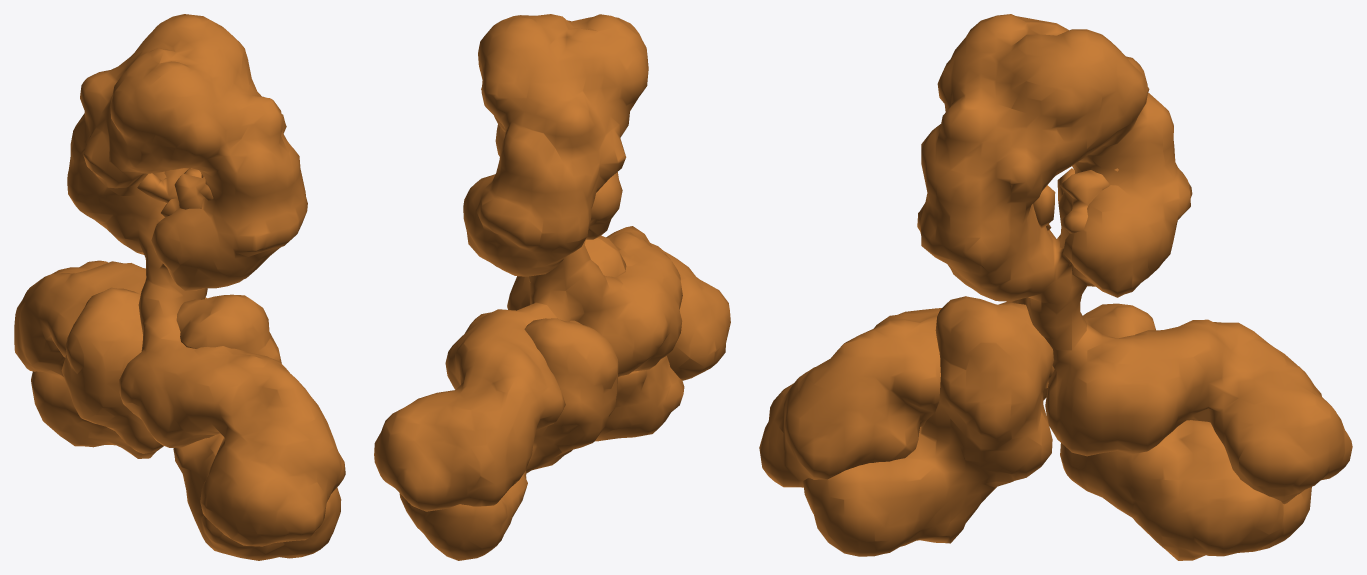
File: iIgG_Antibody_1mer.fbx
3 renders of one model, left to right at view 1: azimuth 30°, elevation 25°; view 2: azimuth 150°, elevation 25°; view 3: azimuth 270°, elevation 25°, orthographic. The views are drawn at different scales.
Visible parts, largest first — view 1: Metaball.2, Metaball.3, Metaball; view 2: Metaball.2, Metaball.3; view 3: Metaball.2, Metaball.3, Metaball.
Boxes of the visible parts, bbox=[...] form: Metaball.2: bbox=[14, 14, 345, 546]; Metaball.3: bbox=[31, 287, 341, 560]; Metaball: bbox=[137, 168, 213, 216]; Metaball.2: bbox=[374, 14, 730, 511]; Metaball.3: bbox=[399, 235, 684, 560]; Metaball.2: bbox=[759, 14, 1352, 504]; Metaball.3: bbox=[803, 296, 1311, 560]; Metaball: bbox=[1033, 168, 1118, 248].
Bounding box in the file's own units: 59.53 × 153 × 156.
